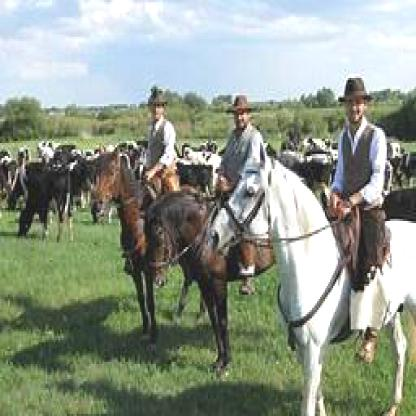cow: (18, 165, 75, 247)
horse: (208, 138, 414, 414), (144, 195, 272, 366), (91, 145, 154, 345)
